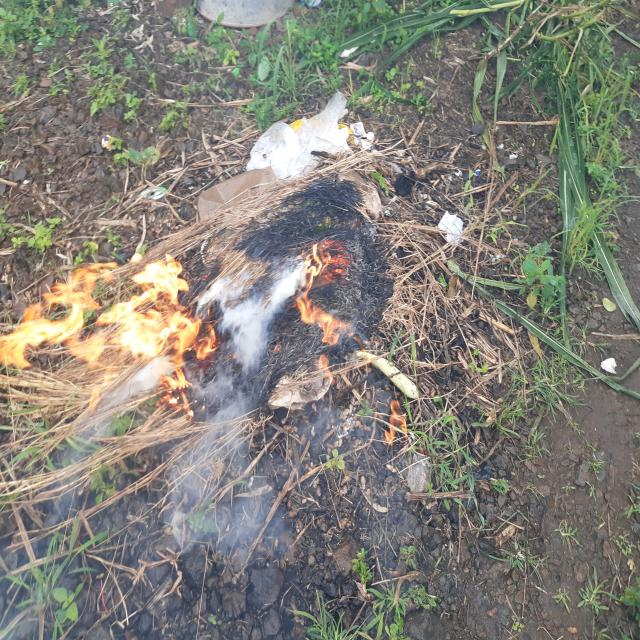Fire: (156, 0, 292, 289), (201, 394, 302, 477)
